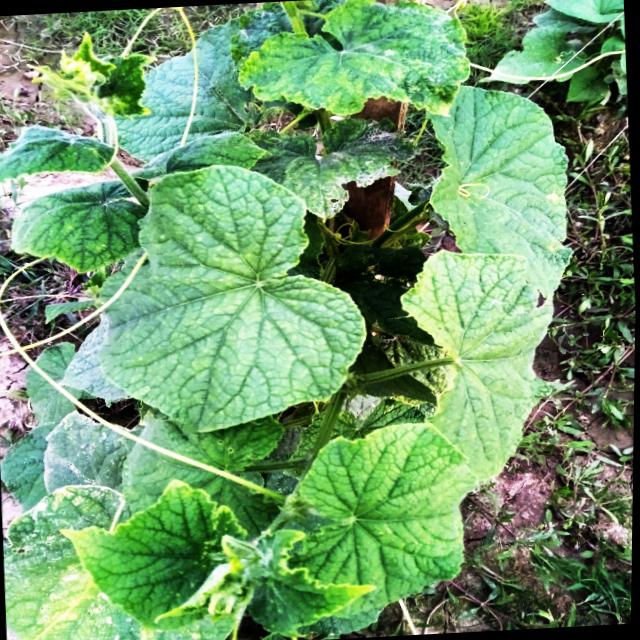Fresh-Leaf: (98, 161, 371, 431), (287, 420, 479, 639), (61, 481, 242, 633)
